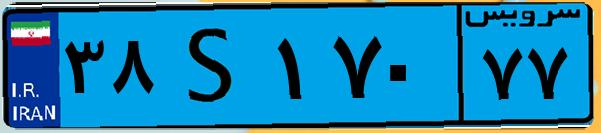0: (385, 28, 445, 110)
1: (270, 28, 330, 110)
3: (57, 26, 110, 100)
7: (330, 28, 385, 110), (475, 38, 525, 113), (525, 38, 570, 115)
8: (110, 28, 158, 98)
S: (158, 12, 270, 120)
